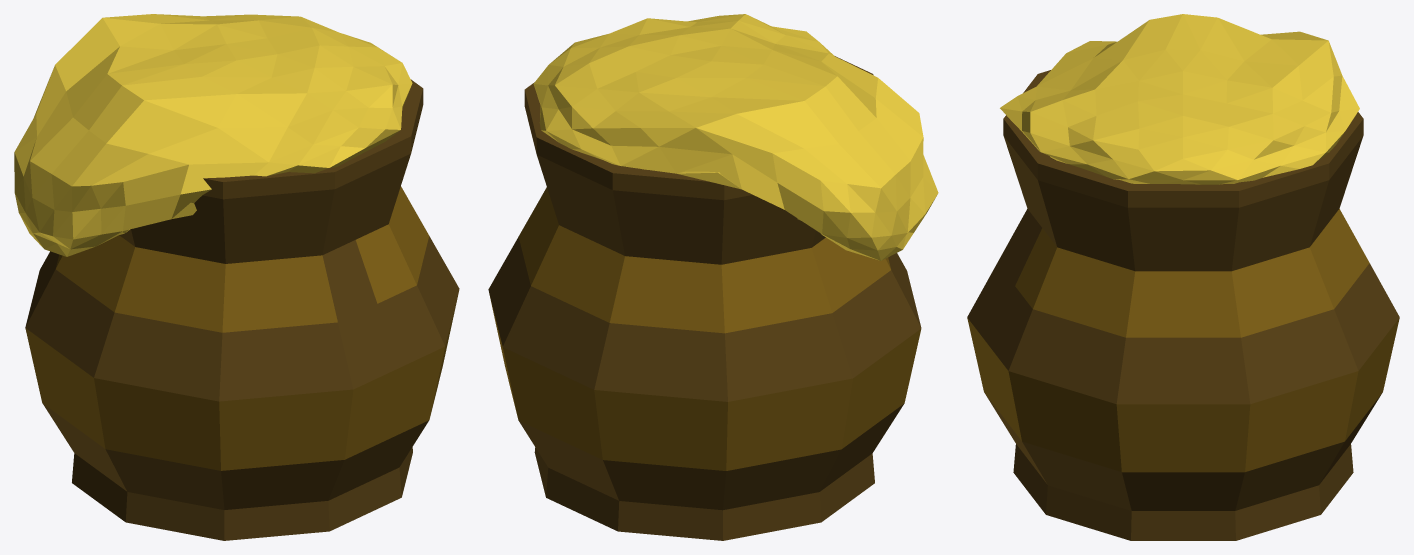
Rendered from pot_de_miel.fbx.
The picture shows the model from 3 angles, left to right: view 1: azimuth 30°, elevation 25°; view 2: azimuth 150°, elevation 25°; view 3: azimuth 270°, elevation 25°; orthographic projection. The views are drawn at different scales.
Visible parts, largest first — view 1: pot, miel; view 2: pot, miel; view 3: pot, miel.
Part boxes in pixels (bbox=[...]): pot: bbox=[25, 79, 459, 540]; miel: bbox=[14, 14, 412, 256]; pot: bbox=[488, 56, 921, 540]; miel: bbox=[533, 14, 938, 260]; pot: bbox=[967, 70, 1399, 540]; miel: bbox=[1000, 14, 1359, 184].
Bounding box in the file's own units: 261 × 264 × 258.
